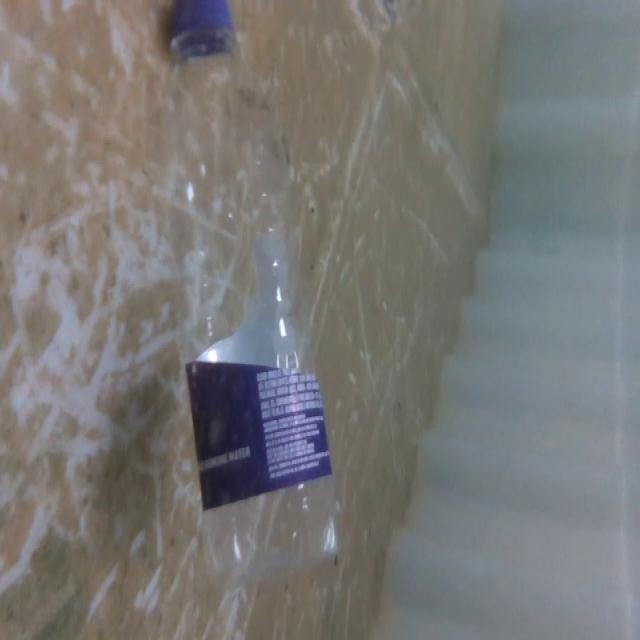plastic bottle: (151, 0, 344, 579)
